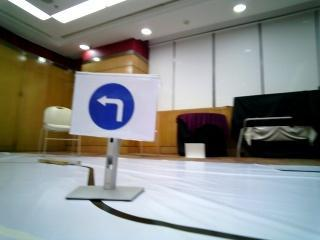left: (82, 76, 140, 138)
